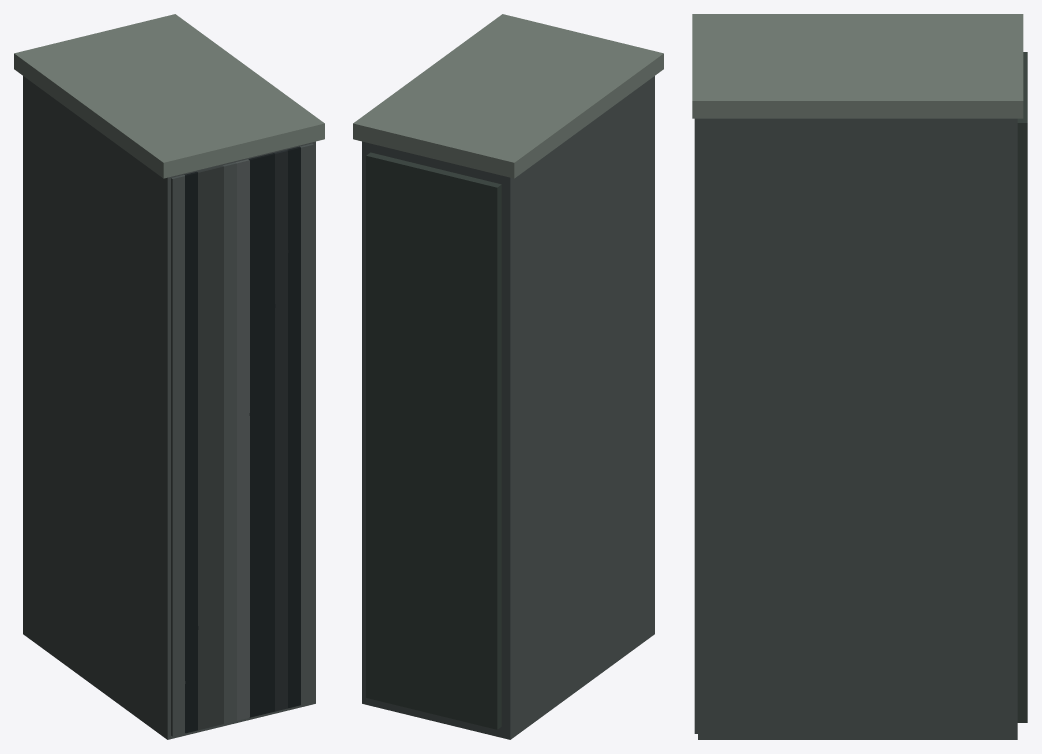
The model's file is CMU3DInteriorVehicleAPCRear3.glb.
3 views of the same model, side by side, from view 1: azimuth 30°, elevation 25°; view 2: azimuth 150°, elevation 25°; view 3: azimuth 270°, elevation 25° (orthographic). The views are drawn at different scales.
Visible parts, largest first — view 1: closed equipment casing, source equipment controls, reinforced top; view 2: closed equipment casing, rear service plate, reinforced top; view 3: closed equipment casing, reinforced top, rear service plate, source equipment controls.
Part boxes in pixels (bbox=[...]): closed equipment casing: bbox=[23, 76, 315, 739]; source equipment controls: bbox=[171, 143, 313, 736]; reinforced top: bbox=[14, 14, 324, 178]; closed equipment casing: bbox=[362, 76, 654, 739]; rear service plate: bbox=[366, 152, 501, 729]; reinforced top: bbox=[353, 14, 663, 178]; closed equipment casing: bbox=[698, 118, 1017, 739]; reinforced top: bbox=[692, 14, 1023, 118]; rear service plate: bbox=[1017, 52, 1027, 722]; source equipment controls: bbox=[694, 118, 697, 733].
Size of the model in its own units: 0.3738 by 1.29 by 0.608.
4 materials, 1 textured.
